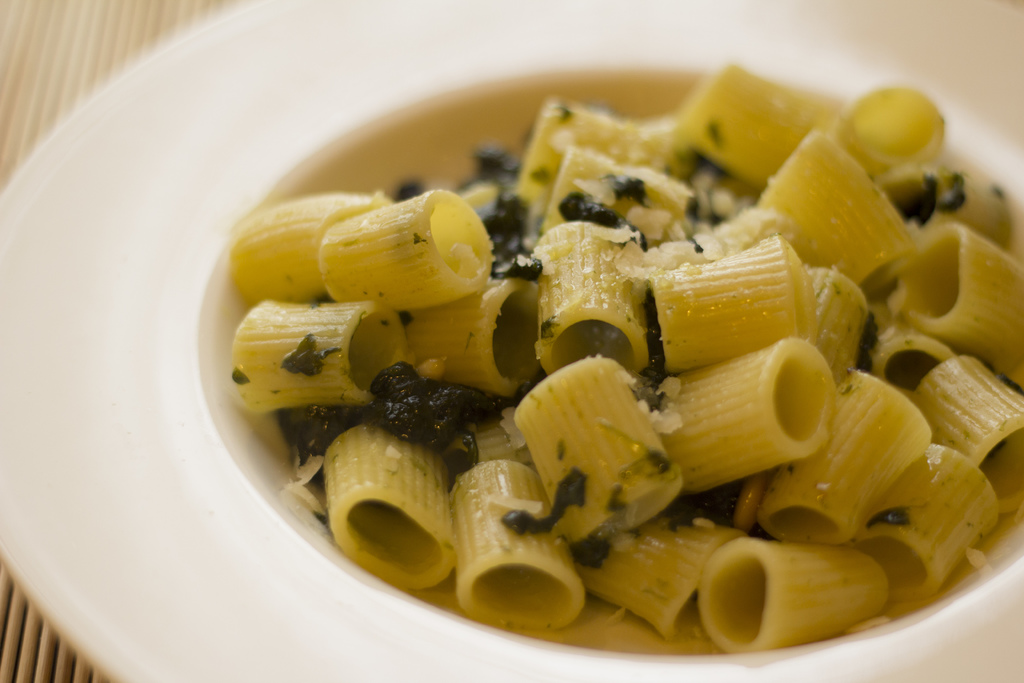pasta: (197, 57, 1024, 668)
